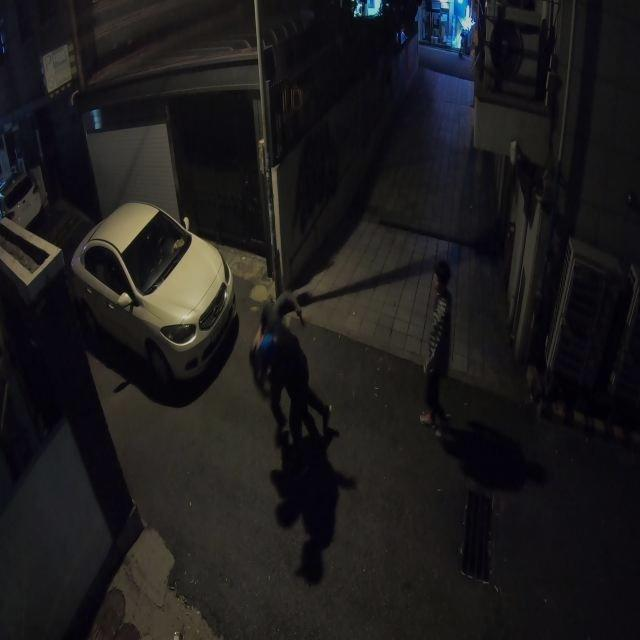fight: (245, 285, 332, 453)
non-fight: (418, 260, 455, 436)
